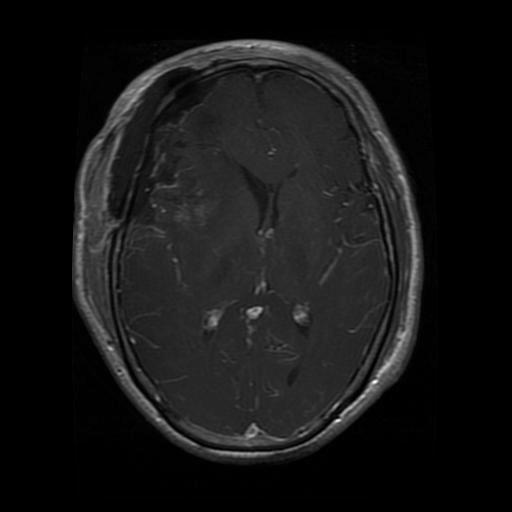Tumour-Glioma: (111, 131, 208, 242)
